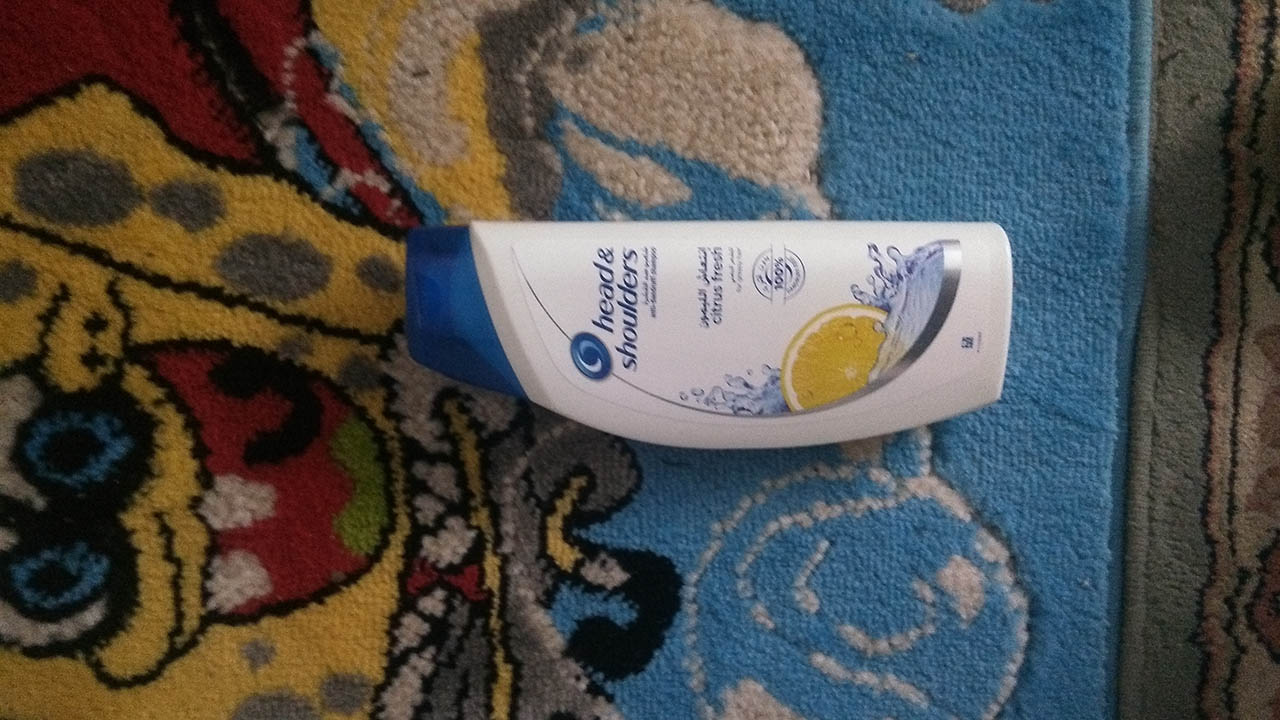shampoo-Lemon 3.5$: (390, 212, 1034, 459)
